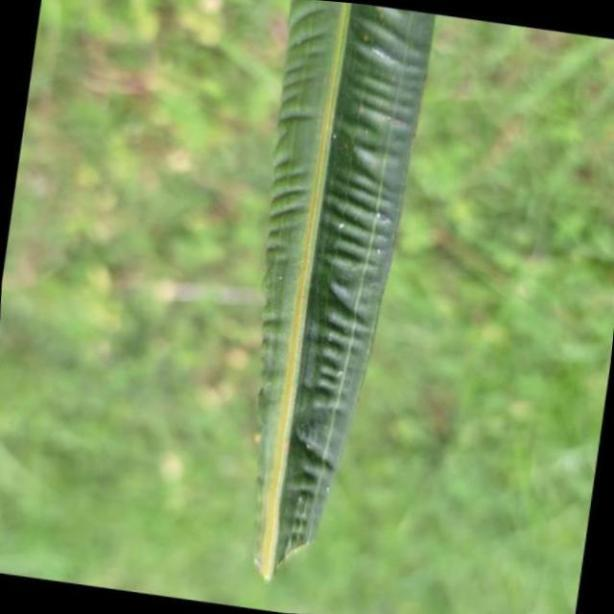Boron: (255, 0, 436, 586)
